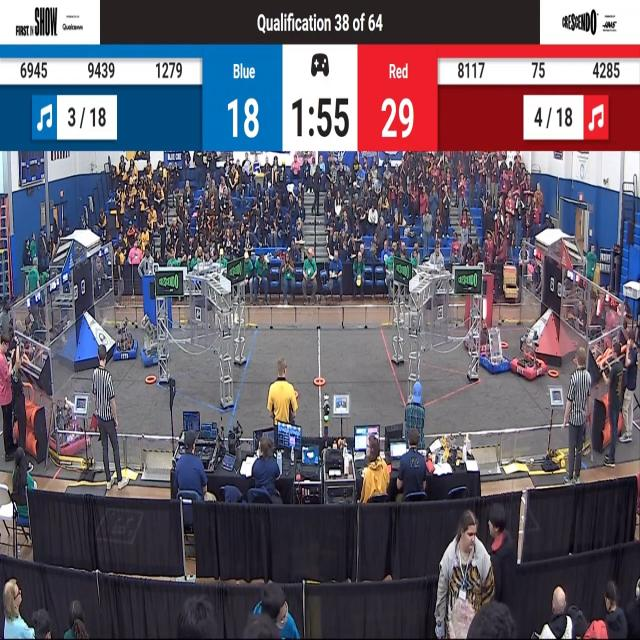Robot: (48, 385, 90, 457), (513, 316, 558, 383), (479, 316, 508, 378), (139, 318, 168, 371), (111, 315, 138, 367), (462, 310, 492, 353)
